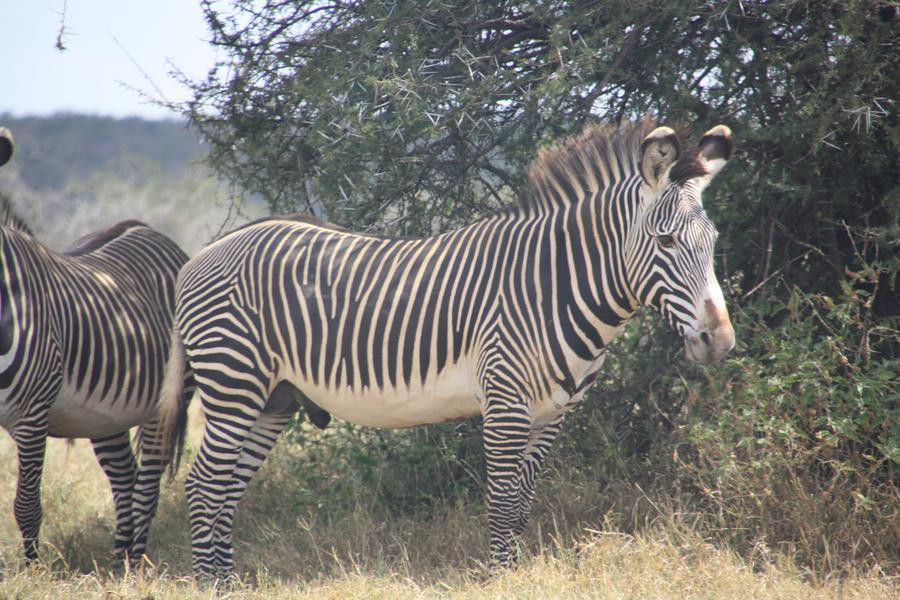zebra_grevys: (185, 196, 573, 406)
